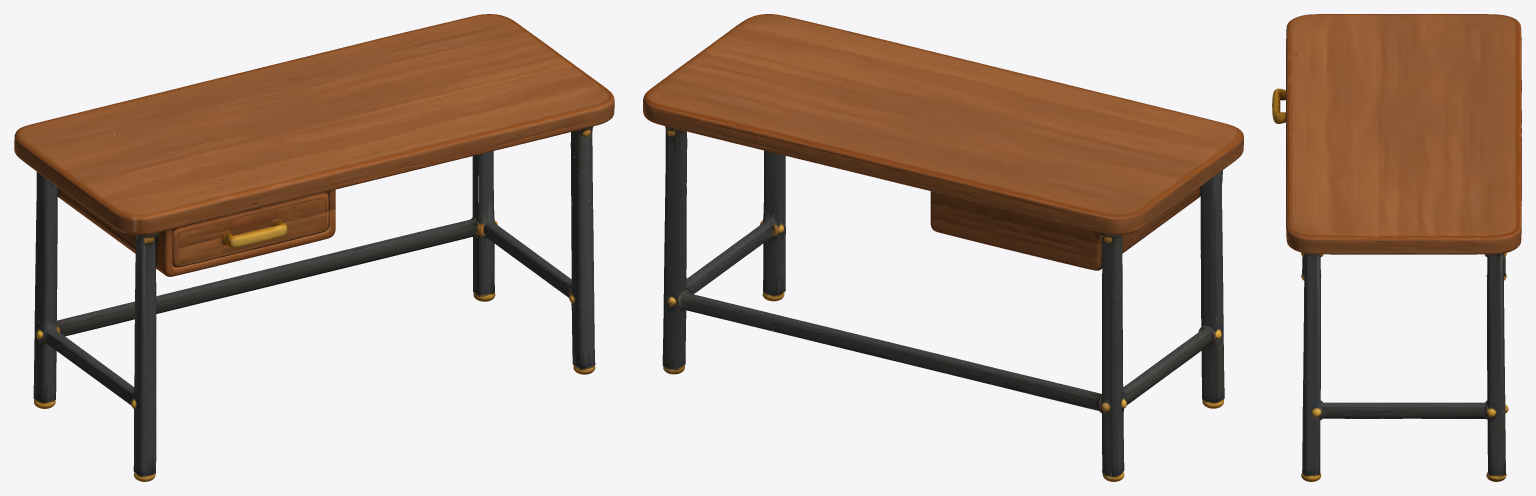
The model's file is desk.parts.glb.
3 views of the same model, side by side, from view 1: azimuth 30°, elevation 25°; view 2: azimuth 150°, elevation 25°; view 3: azimuth 270°, elevation 25° (orthographic). The views are drawn at different scales.
Parts seen in each view (by area): view 1: body, drawer; view 2: body, drawer; view 3: body, drawer.
Part boxes in pixels (x1,y1,x2,y2): body: [14, 14, 614, 481]; drawer: [55, 183, 352, 288]; body: [643, 14, 1243, 481]; drawer: [905, 183, 1202, 287]; body: [1286, 14, 1521, 481]; drawer: [1272, 88, 1285, 123].
Bounding box in the file's own units: 0.979 × 0.5189 × 0.4581.
1 material, 1 textured.
